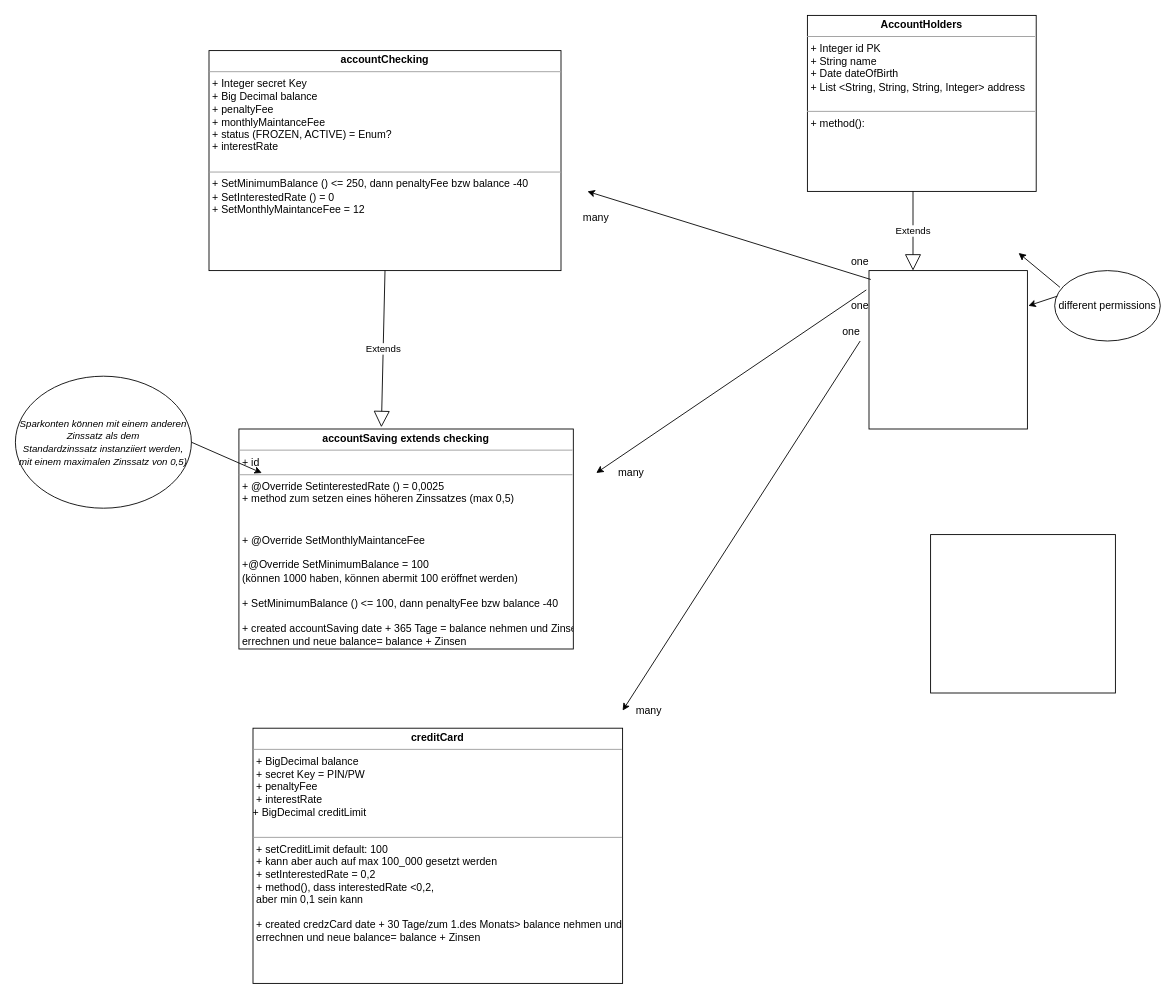
This 1176x999 diagram has some shape labels left out. Here are the shapes that lost their labels. From the top down, the box of each, then its label:
(868, 270, 1027, 429): Admin + + + + method():
(930, 534, 1115, 693): ThirdParty + hashed key (String Zufall/gesetzt) + String name + + method():
